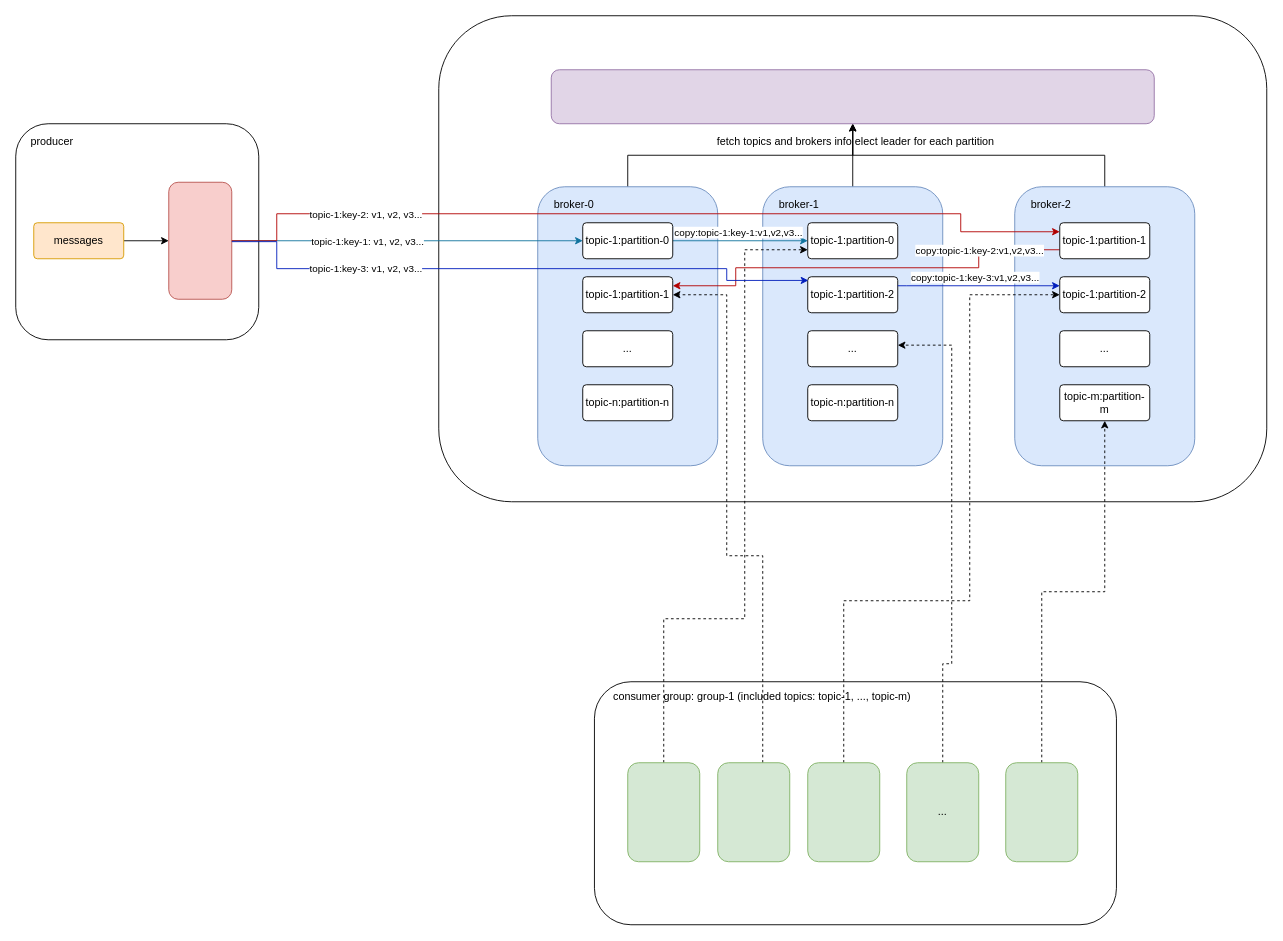
This 1283x941 diagram has some shape labels left out. Here are the shapes that lost their labels. From the top down, the centre of each, then its label:
At [852,96]: "zookeeper cluster".
At [200,240]: "partitioner".
At [663,812]: "consumer-0".
At [753,812]: "consumer-1".
At [843,812]: "consumer-2".
At [1041,812]: "consumer-n".
